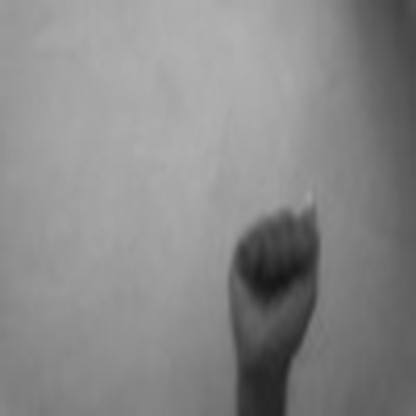a: (226, 188, 328, 365)
